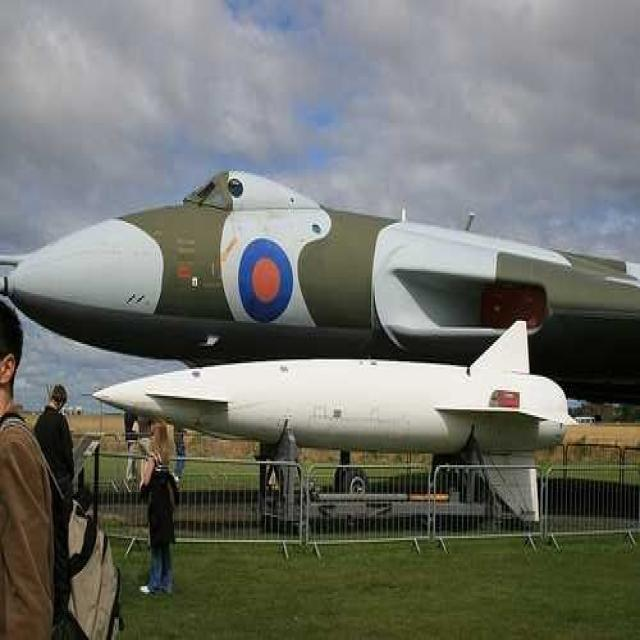missile: (94, 322, 568, 530)
